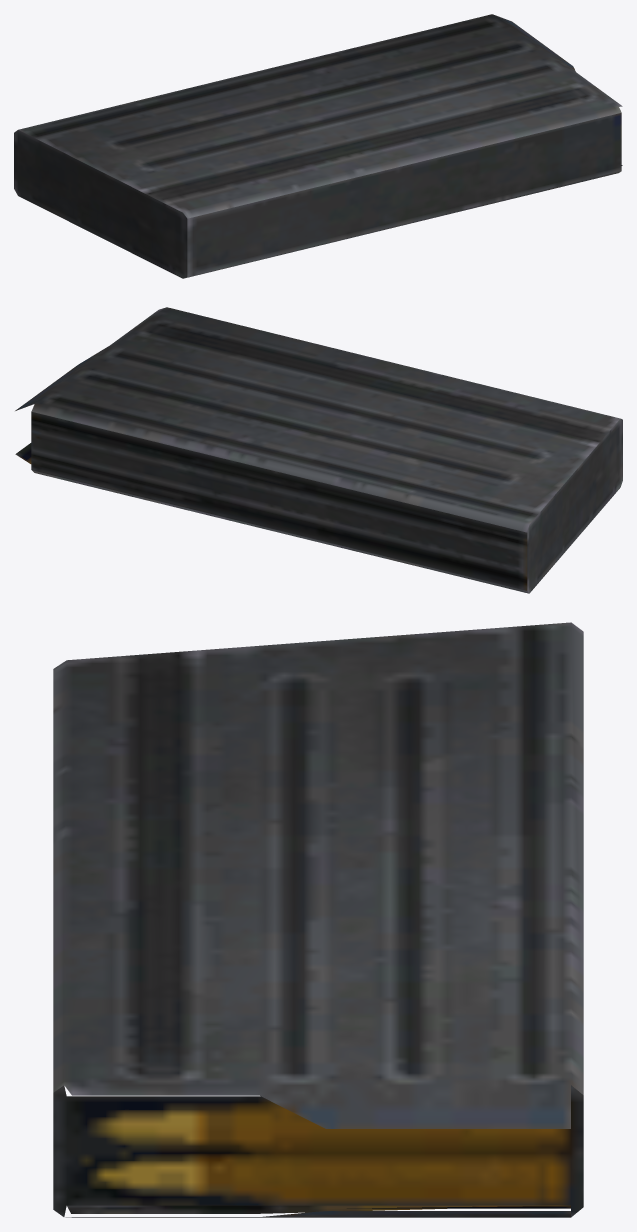
Rendered from Pickup_WeaponDj02.glb.
The picture shows the model from 3 angles, top to bottom: view 1: azimuth 30°, elevation 25°; view 2: azimuth 150°, elevation 25°; view 3: azimuth 270°, elevation 25°; orthographic projection. The views are drawn at different scales.
Visible parts, largest first — view 1: pk_weapon_dj02; view 2: pk_weapon_dj02; view 3: pk_weapon_dj02.
Part boxes in pixels (bbox=[...]): pk_weapon_dj02: bbox=[14, 14, 622, 278]; pk_weapon_dj02: bbox=[15, 307, 622, 593]; pk_weapon_dj02: bbox=[53, 622, 583, 1217].
Size of the model in its own units: 0.4578 by 0.0585 by 0.2125.
Materials: 1 (1 with a texture image).
